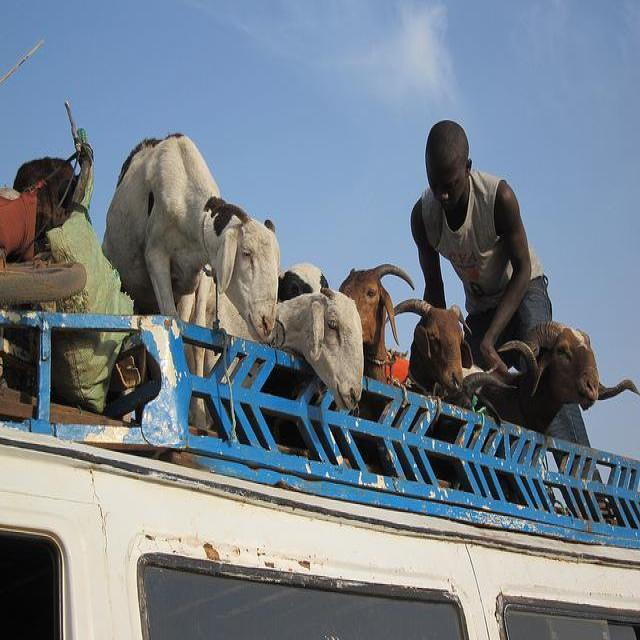Sheep: (101, 133, 281, 344), (182, 284, 363, 412), (481, 319, 637, 429), (427, 372, 509, 493), (340, 264, 416, 383), (393, 299, 475, 393)
